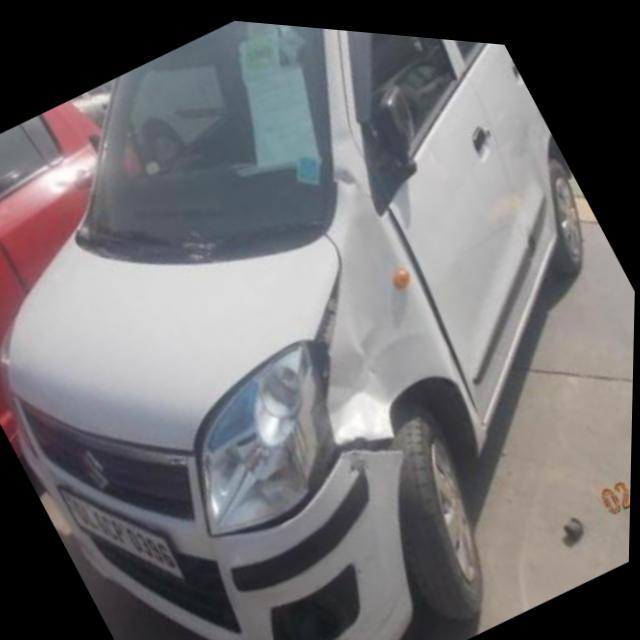dent: (330, 307, 434, 399), (330, 154, 368, 197)
dislocated part: (373, 197, 497, 398), (279, 260, 343, 522), (336, 404, 409, 480)
